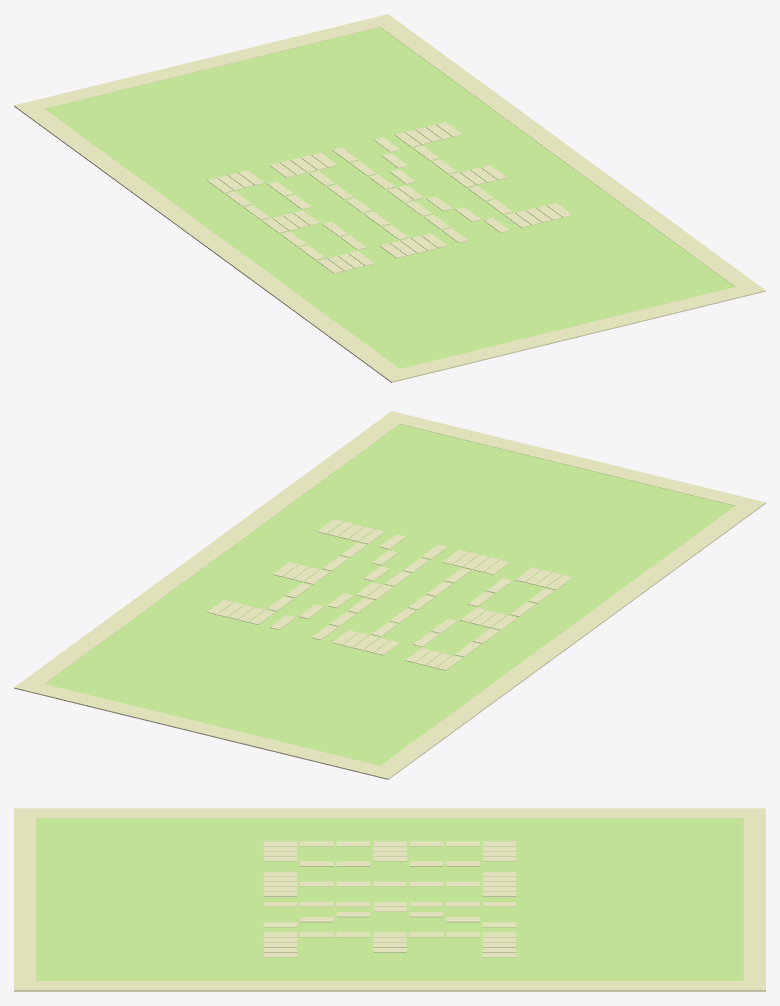
File: marking_bike_lane_panel_green.glb
3 renders of one model, top to bottom at view 1: azimuth 30°, elevation 25°; view 2: azimuth 150°, elevation 25°; view 3: azimuth 270°, elevation 25°, orthographic.
Parts seen in each view (by area): view 1: bike_lane_panel_fill, bike_lane_panel_left, bike_lane_panel_right, bike_lane_panel_bottom, bike_lane_panel_top; view 2: bike_lane_panel_fill, bike_lane_panel_left, bike_lane_panel_right, bike_lane_panel_top, bike_lane_panel_bottom; view 3: bike_lane_panel_fill, bike_lane_panel_right, bike_lane_panel_left, bike_lane_panel_top, bike_lane_panel_bottom.
Part boxes in pixels (bbox=[...]): bike_lane_panel_fill: bbox=[45, 27, 734, 368]; bike_lane_panel_left: bbox=[25, 109, 399, 374]; bike_lane_panel_right: bbox=[380, 22, 754, 286]; bike_lane_panel_bottom: bbox=[380, 282, 765, 382]; bike_lane_panel_top: bbox=[14, 14, 398, 114]; bike_lane_panel_fill: bbox=[45, 424, 734, 765]; bike_lane_panel_left: bbox=[380, 506, 754, 771]; bike_lane_panel_right: bbox=[25, 419, 399, 683]; bike_lane_panel_top: bbox=[14, 679, 399, 779]; bike_lane_panel_bottom: bbox=[381, 411, 765, 511]; bike_lane_panel_fill: bbox=[36, 818, 743, 980]; bike_lane_panel_right: bbox=[36, 981, 743, 991]; bike_lane_panel_left: bbox=[36, 808, 743, 817]; bike_lane_panel_top: bbox=[743, 808, 765, 991]; bike_lane_panel_bottom: bbox=[14, 808, 36, 991].
Bounding box in the file's own units: 1.74 × 0.006 × 3.04.
